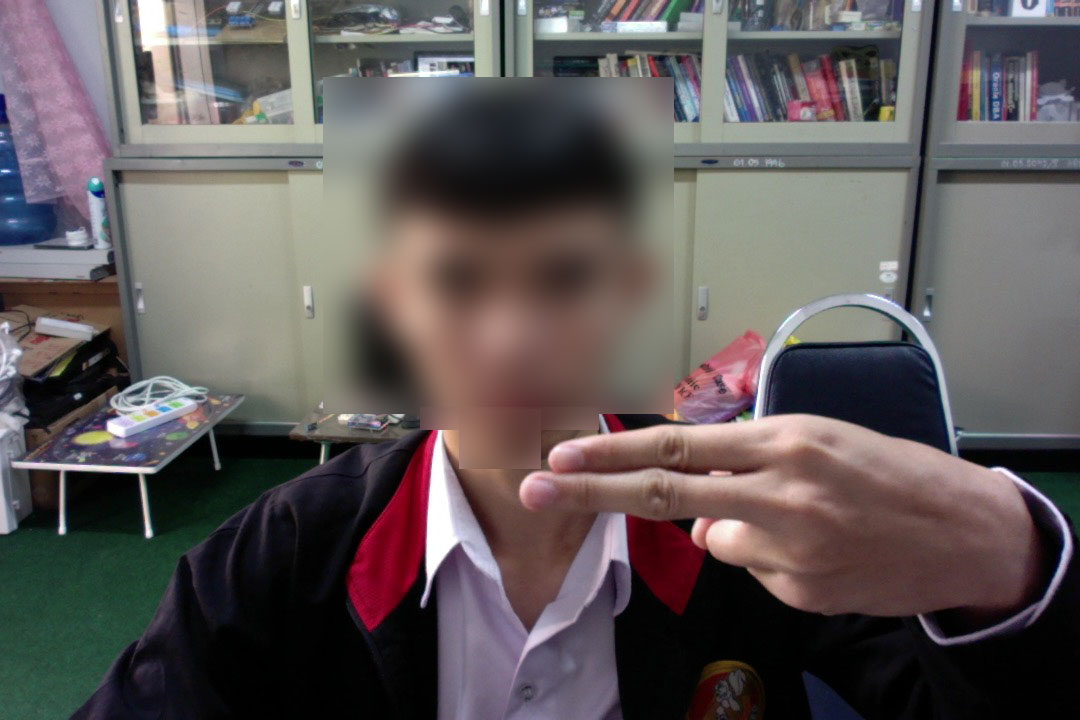hor: (503, 410, 1037, 623)
